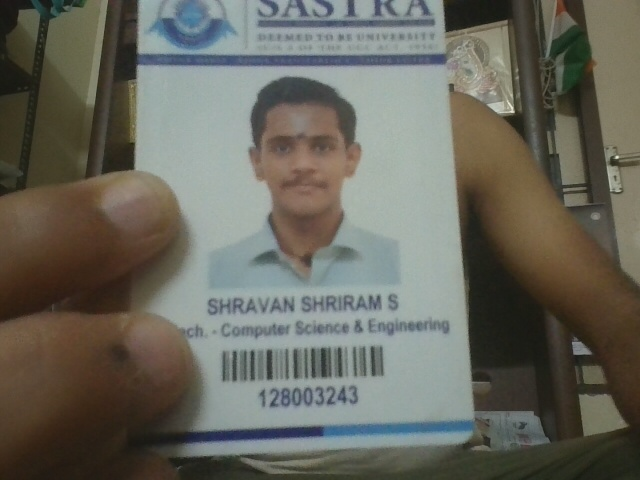fake: (246, 103, 357, 214)
